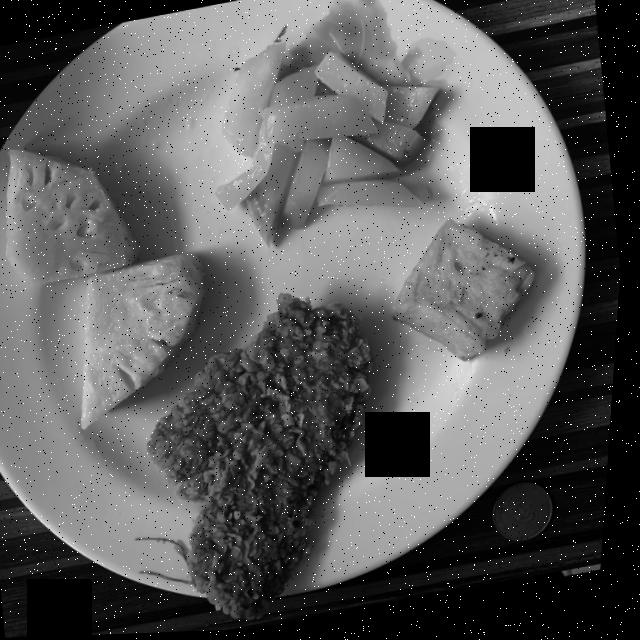coin: (499, 487, 559, 546)
creamy tofu -without sauce-: (395, 223, 538, 364)
fried chicken cutlet: (153, 296, 381, 622)
pineapple: (8, 149, 210, 429)
